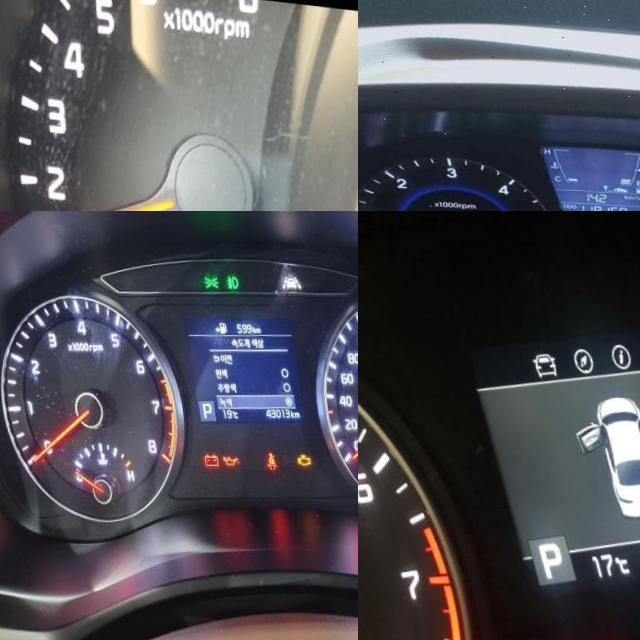FrontFogLight: (219, 272, 233, 287)
LaneCenteringOff: (274, 272, 295, 288)
SideLamp: (196, 273, 213, 287)
